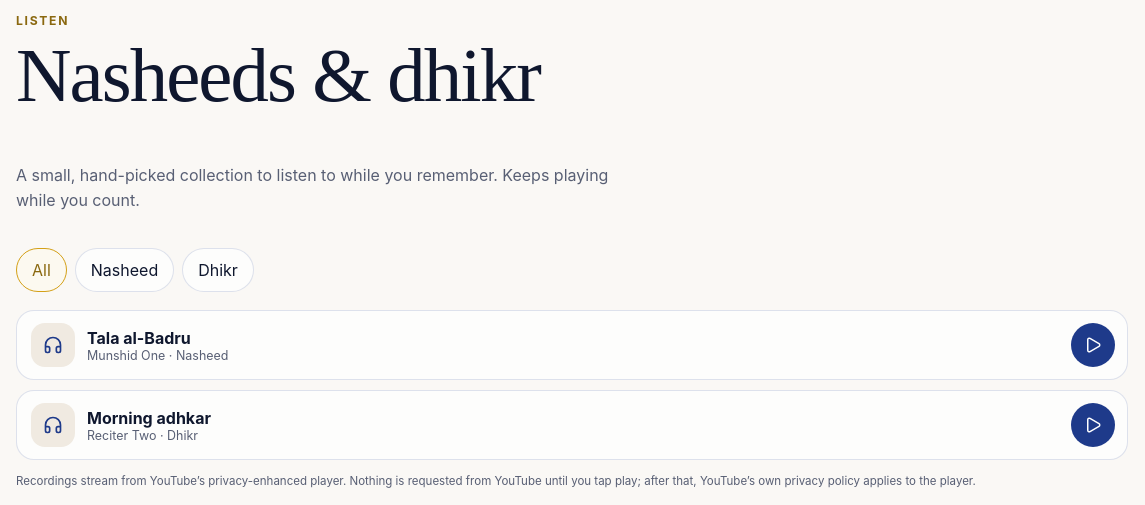
ListenView › filters by kind
This screenshot has width=1145, height=505.
Click the button "Dhikr".
click(218, 270)  # box [182,248,254,292]
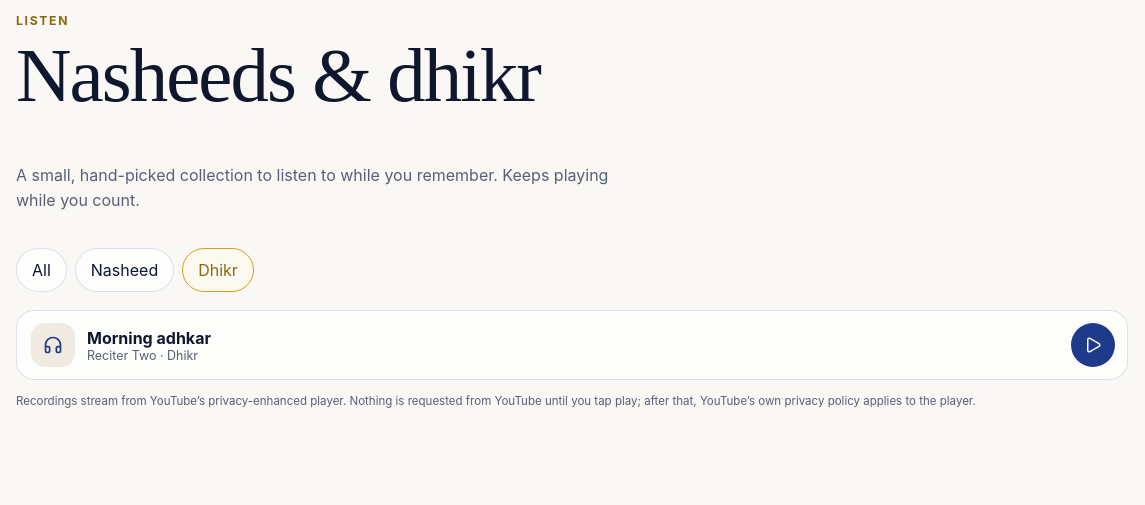
Check: the text "Morning adhkar" is shown, box [87,328,211,348]
Check: the text "Tala al-Badru" is gone
